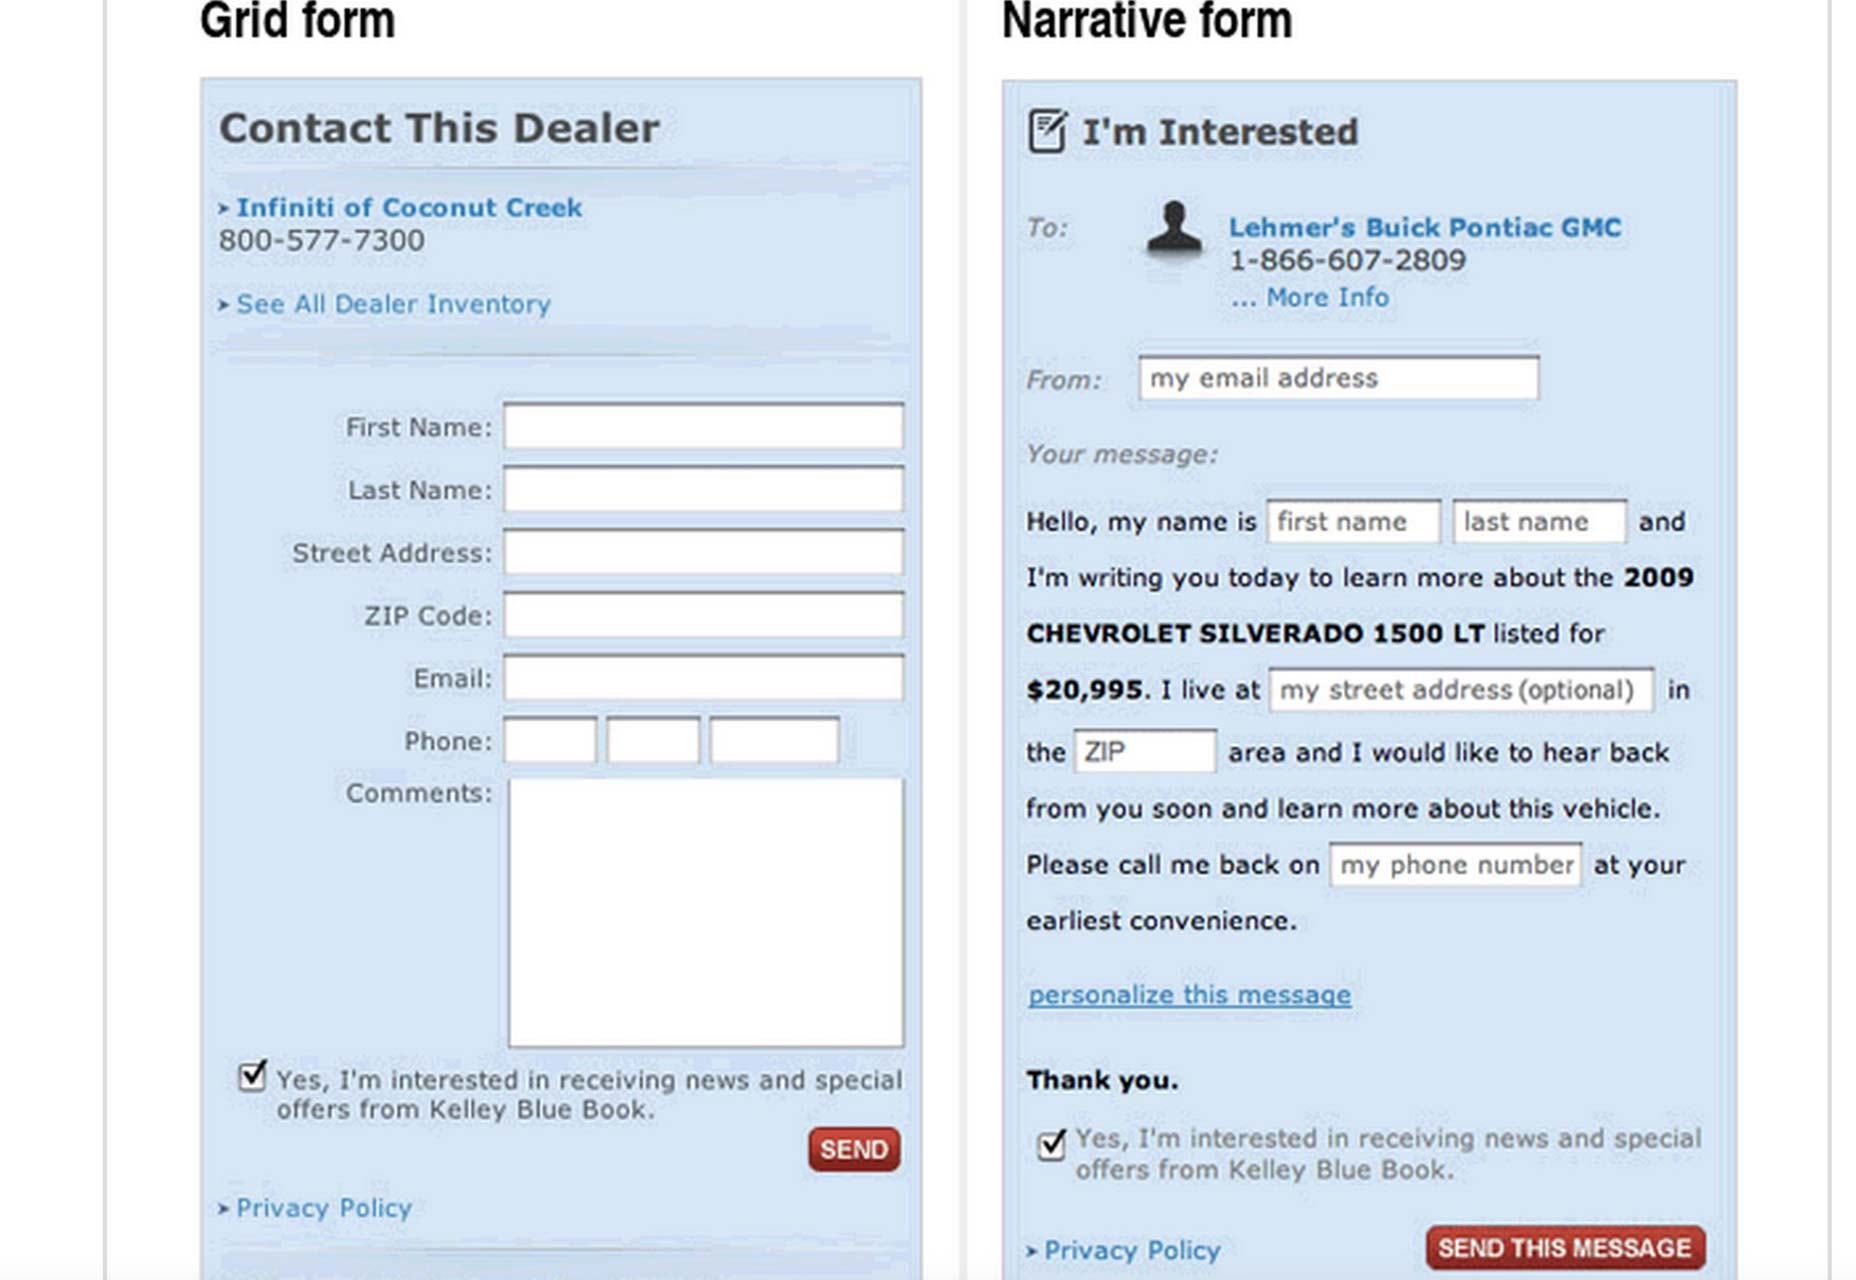_form_: (1000, 624, 1702, 1022), (269, 365, 915, 780), (315, 688, 927, 1109), (1010, 228, 1563, 622), (1018, 1107, 1714, 1222), (231, 1033, 904, 1150), (1015, 812, 1630, 926), (1144, 460, 1652, 574), (1393, 1171, 1729, 1280), (599, 1085, 935, 1194)
button: (1424, 1224, 1712, 1274), (808, 1125, 903, 1176)
checkbox: (236, 1061, 275, 1095), (1039, 1129, 1076, 1162)
checkbox_with_label: (234, 1059, 903, 1100)
field: (501, 775, 905, 1050), (502, 524, 907, 579), (499, 462, 908, 516), (496, 398, 905, 450), (1134, 352, 1541, 405), (499, 653, 905, 703), (502, 591, 905, 641), (1259, 665, 1654, 712), (1319, 840, 1584, 890), (1451, 496, 1628, 547), (1262, 498, 1443, 547), (1068, 726, 1220, 775), (708, 718, 839, 765), (604, 716, 702, 765), (499, 716, 597, 765)
field_with_label: (346, 771, 911, 1053), (291, 522, 910, 581), (344, 395, 910, 454), (348, 460, 910, 519), (360, 586, 908, 646), (1027, 663, 1656, 713), (1025, 350, 1547, 409), (1030, 837, 1589, 892), (1032, 1125, 1704, 1169), (412, 650, 908, 706), (1025, 493, 1448, 550), (1028, 720, 1223, 778), (408, 712, 599, 770)
